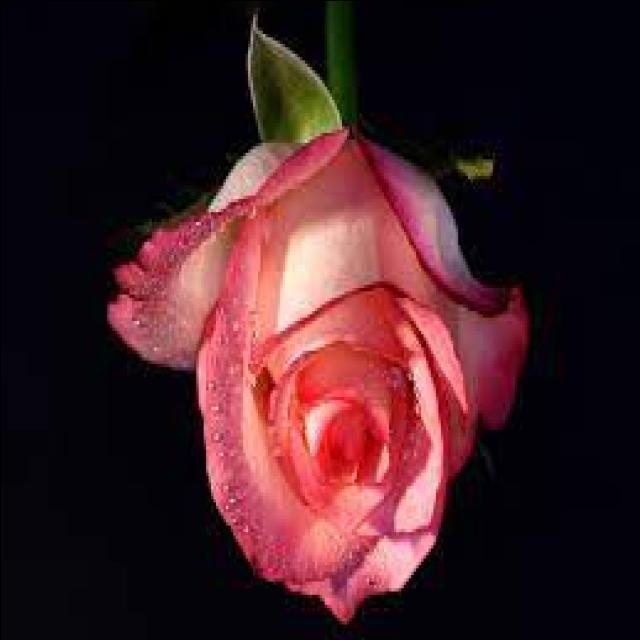rose: (110, 96, 548, 616)
